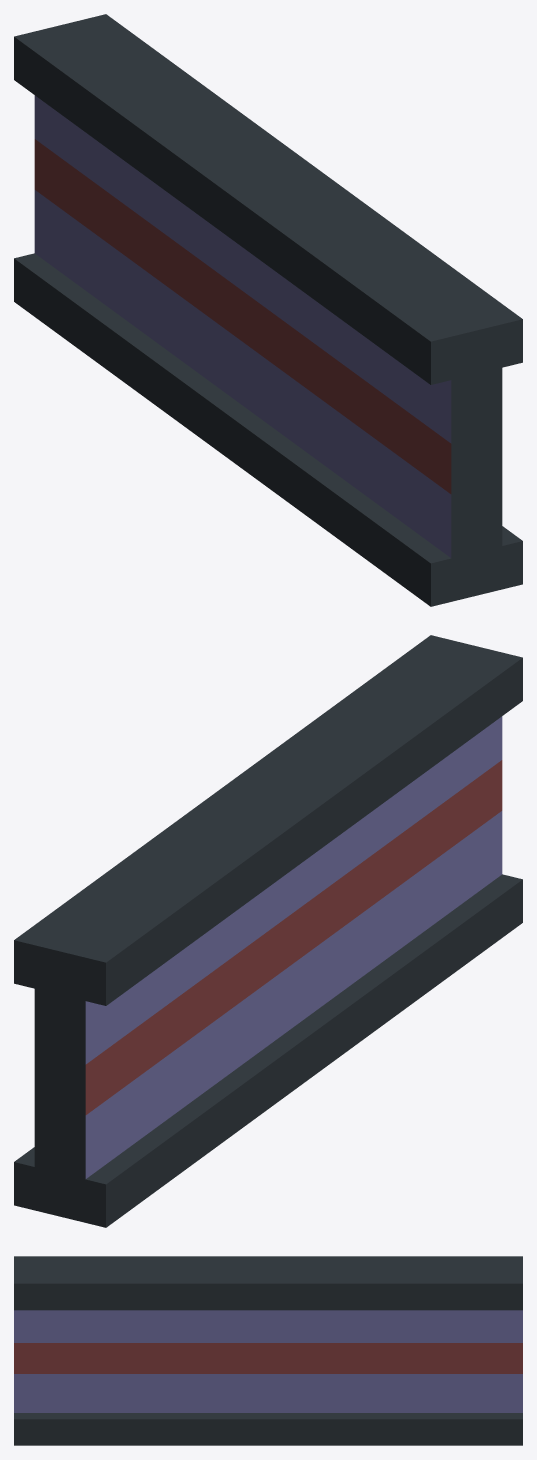
Rendered from wall2.FBX.
3 renders of one model, top to bottom at view 1: azimuth 30°, elevation 25°; view 2: azimuth 150°, elevation 25°; view 3: azimuth 270°, elevation 25°, orthographic. The views are drawn at different scales.
Visible parts, largest first — view 1: wall2; view 2: wall2; view 3: wall2.
Part boxes in pixels (bbox=[...]): wall2: bbox=[14, 14, 522, 606]; wall2: bbox=[14, 635, 522, 1227]; wall2: bbox=[14, 1256, 522, 1445].
Size of the model in its own units: 0.9003 by 2.48 by 7.05.
